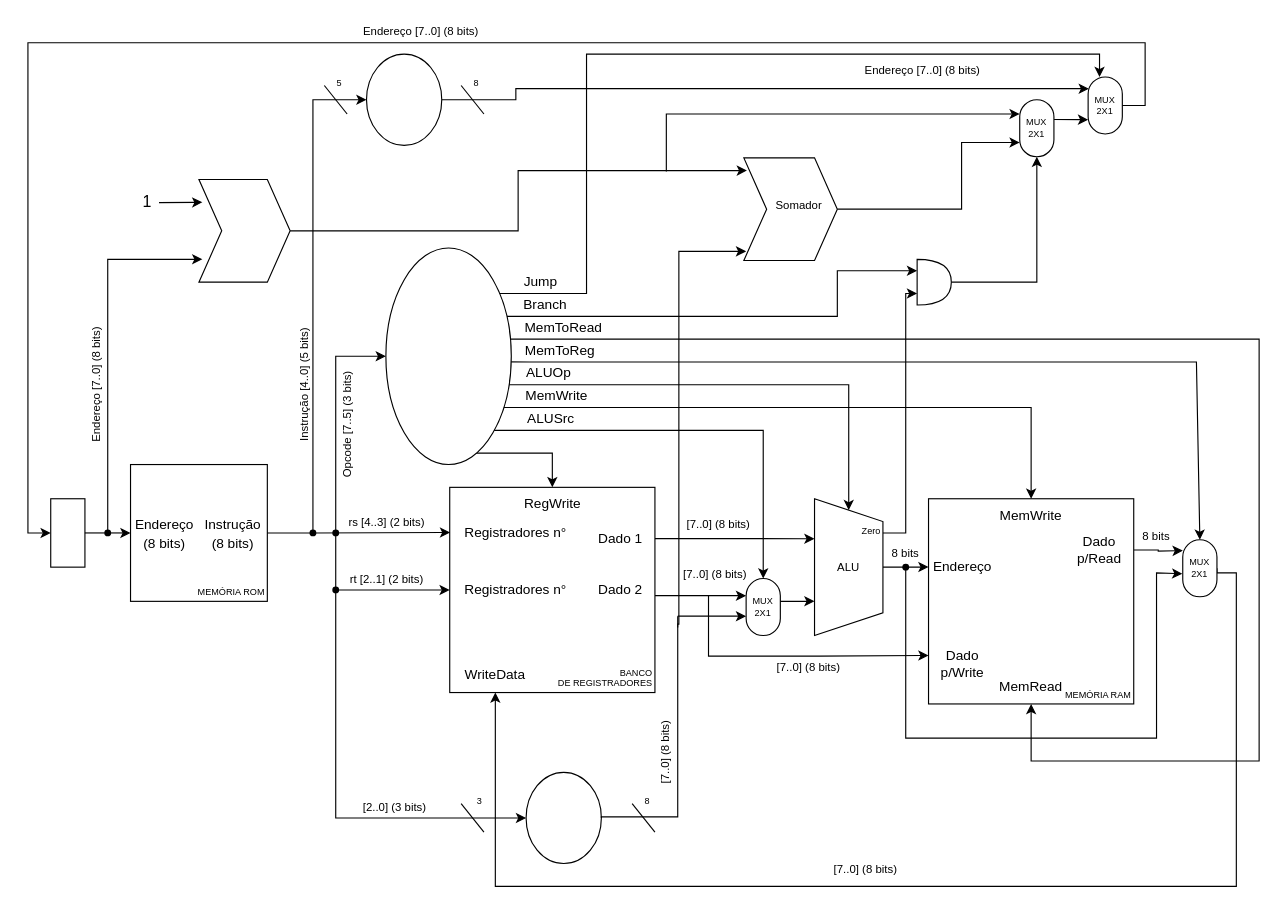
The diagram is 1288 pixels wide and 917 high, and some of its shapes have lost their labels. The shapes that lost their labels are listed below. From the top down, each one's centre as x and y in pixels, then its label:
At [403,99]: "EXTENSOR 5x8".
At [244,230]: "Somador +1".
At [448,356]: "UNIDADE DE CONTROLE".
At [67,532]: "PC".
At [563,817]: "EXTENSOR 3x8".
